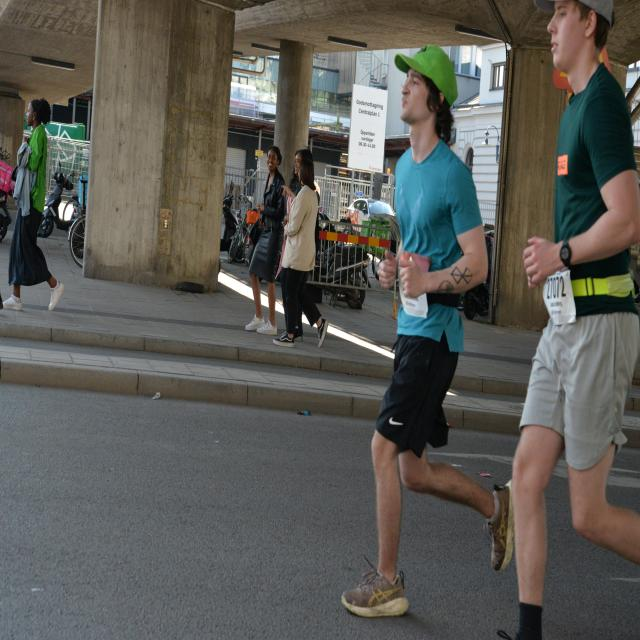runner-detect: (345, 38, 513, 634)
